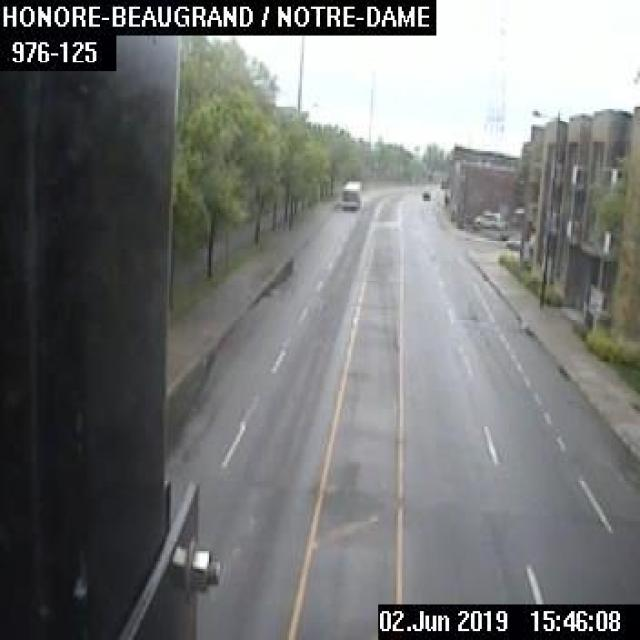bus: (338, 178, 361, 210)
vehicle: (472, 208, 503, 228), (418, 186, 429, 198)
